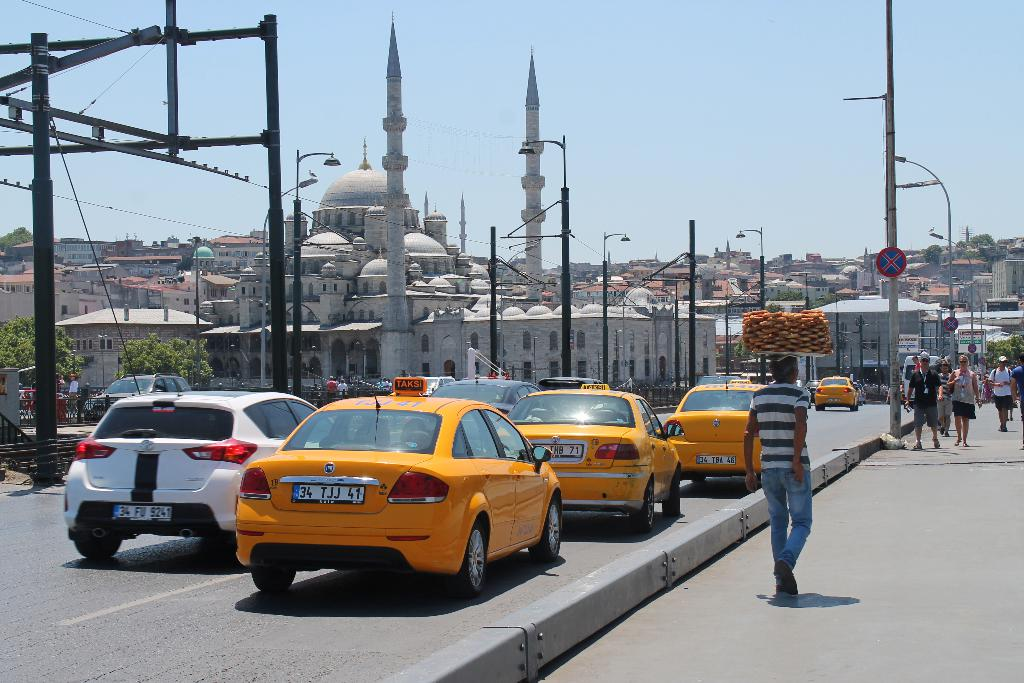mobil: (240, 394, 563, 601), (65, 393, 259, 562), (812, 373, 862, 411)
